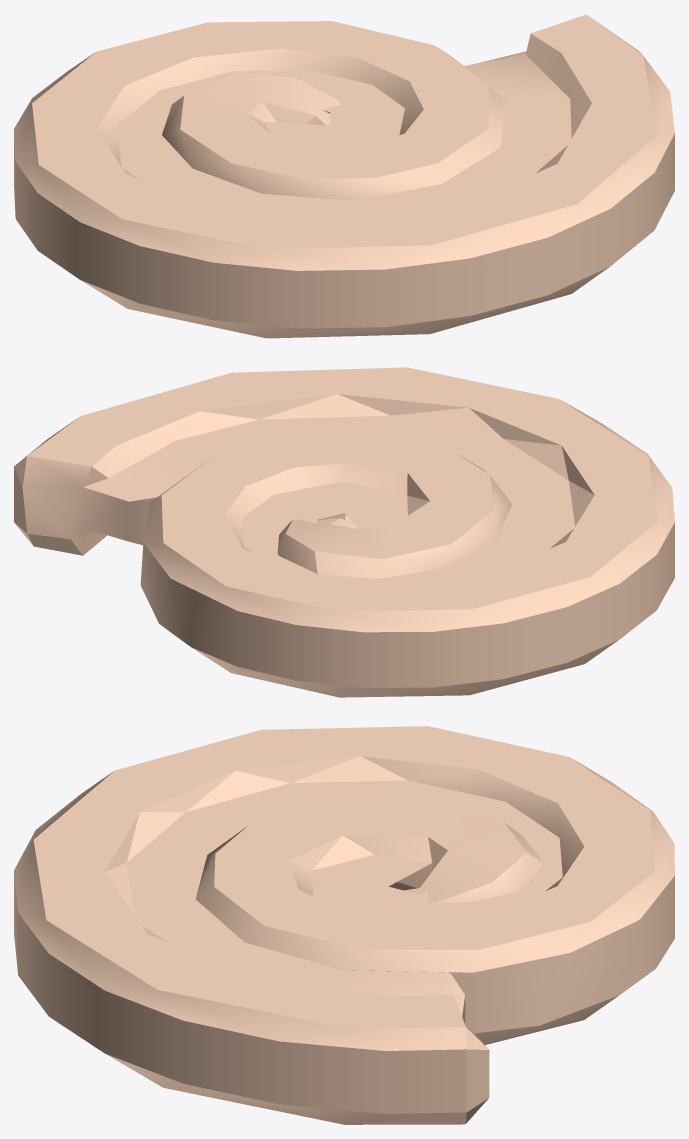
Rendered from Spiral Shell 2_001.glb.
3 views of the same model, one above another, from view 1: azimuth 30°, elevation 25°; view 2: azimuth 150°, elevation 25°; view 3: azimuth 270°, elevation 25° (orthographic). The views are drawn at different scales.
Parts seen in each view (by area): view 1: Spiral Shell 2_001; view 2: Spiral Shell 2_001; view 3: Spiral Shell 2_001.
Boxes of the visible parts, box(x1,y1,x2,y2) form: Spiral Shell 2_001: box(14, 14, 674, 338); Spiral Shell 2_001: box(14, 367, 674, 697); Spiral Shell 2_001: box(14, 726, 674, 1124).
Bounding box in the file's own units: 0.1231 × 0.0185 × 0.108.
Materials: 1 (1 with a texture image).
